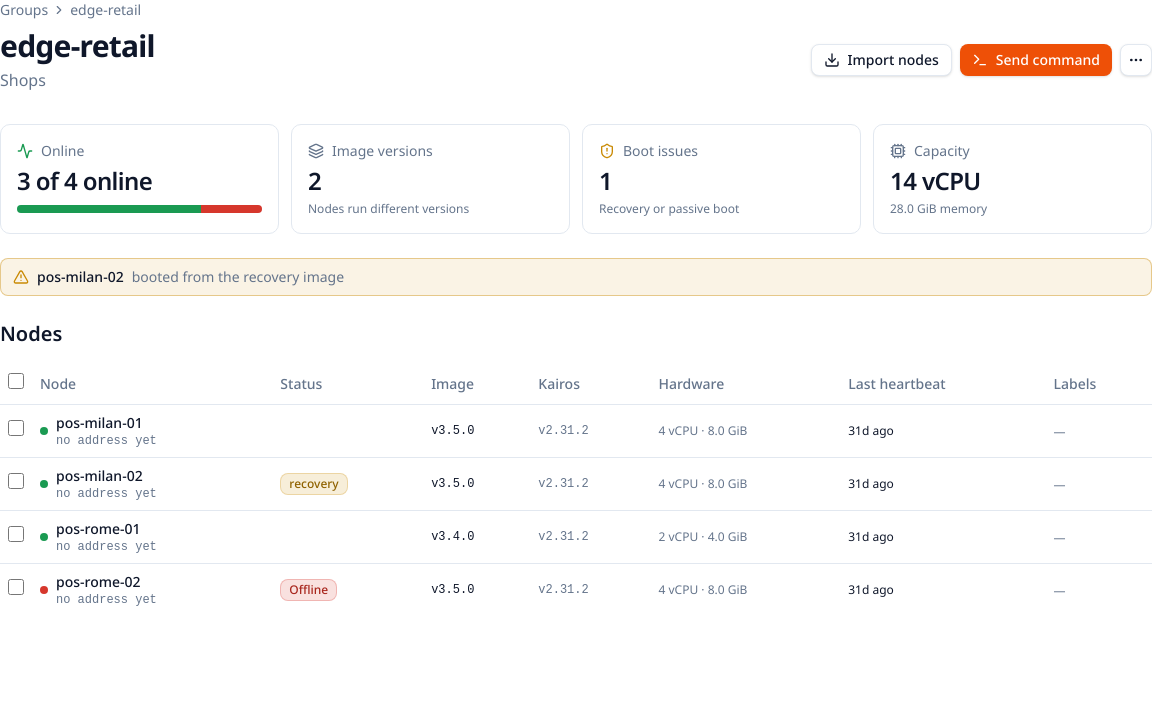
Test case: Group detail › saves name and description through the Edit dialog
The width and height of the screenshot is (1152, 720).
Expected: the heading "edge-retail" is shown, x1=0 y1=28 x2=155 y2=64
Press Enter in the button named "More actions", box x1=1120 y1=44 x2=1151 y2=76
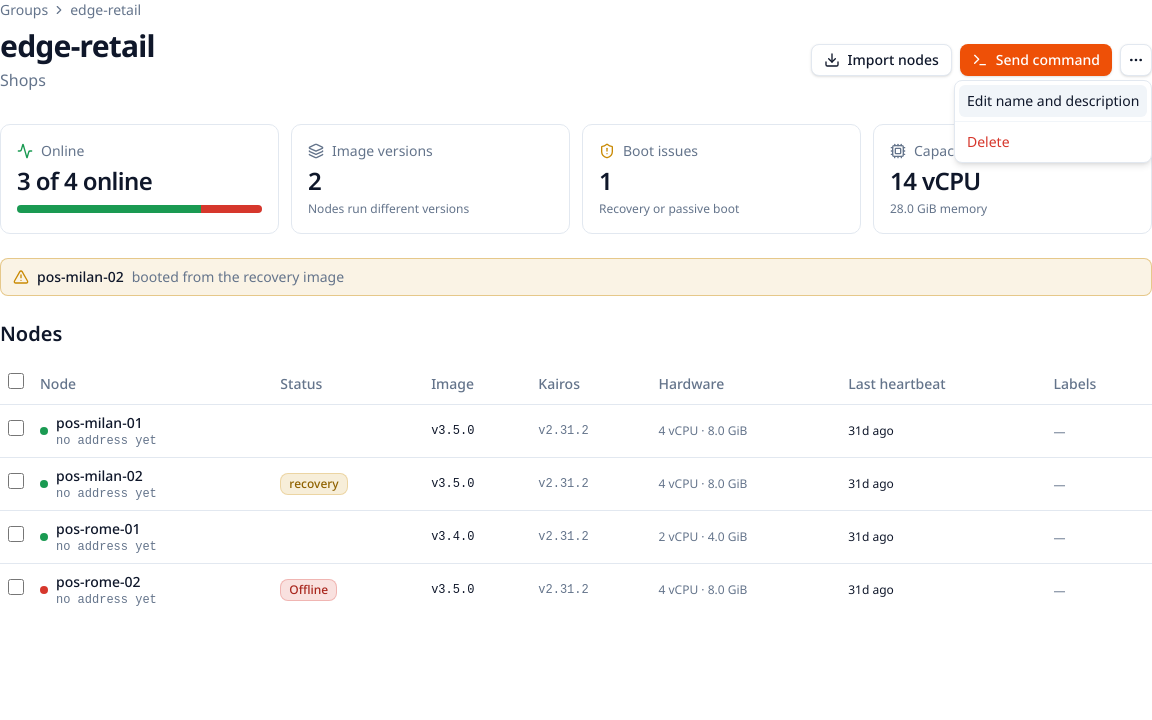
Click the menu item "Edit name and description": (1053, 101) x1=959 y1=85 x2=1147 y2=117
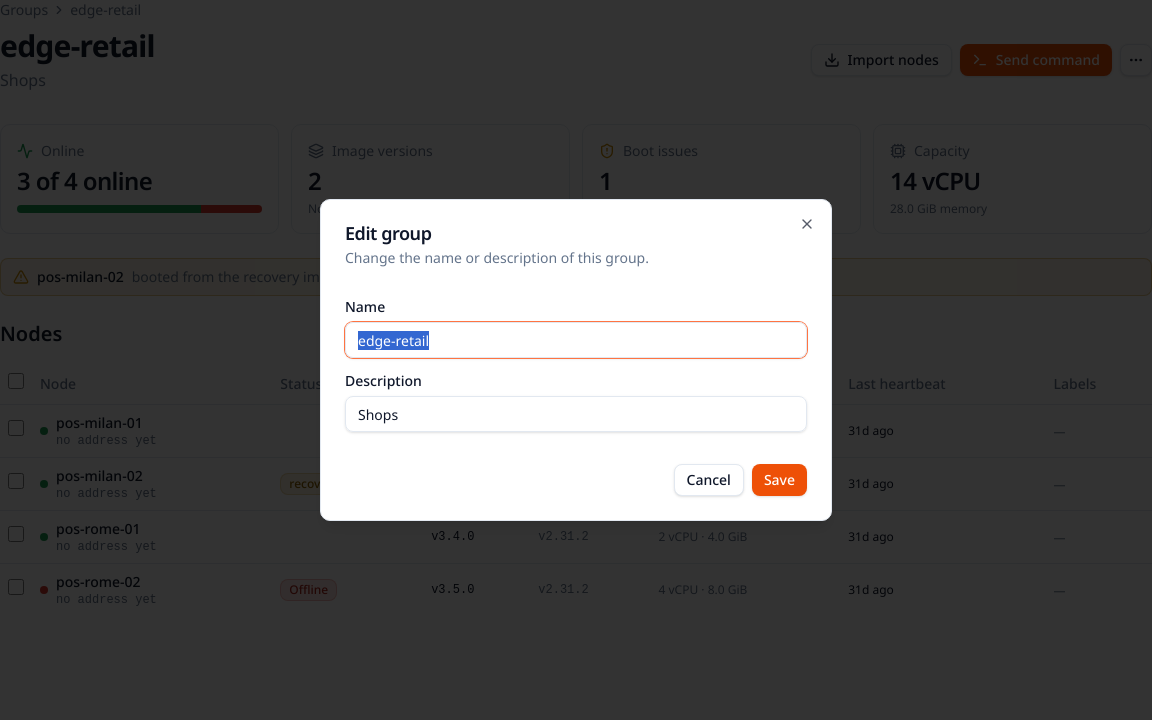
Replace the text in the field labelled "Name" with "edge-shops": (576, 340) x1=345 y1=322 x2=807 y2=358
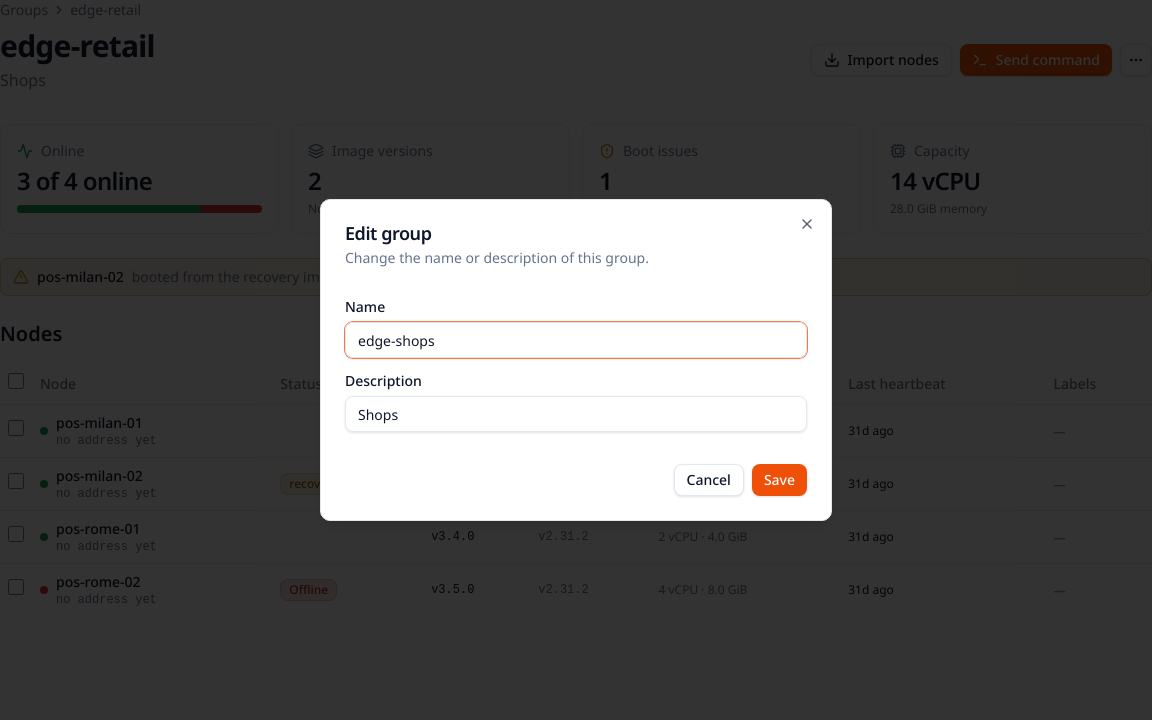
Replace the text in the field labelled "Description" with "All shops": (576, 414) x1=345 y1=396 x2=807 y2=432
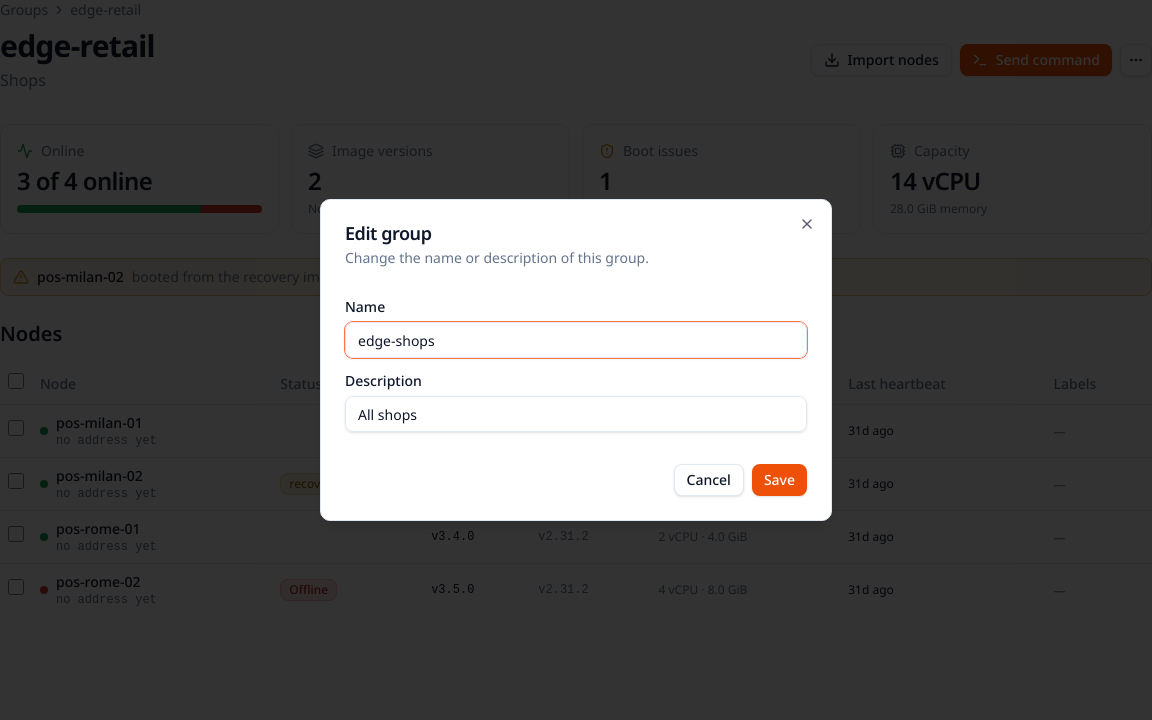
Click the button "Save": (779, 480) x1=752 y1=464 x2=807 y2=496
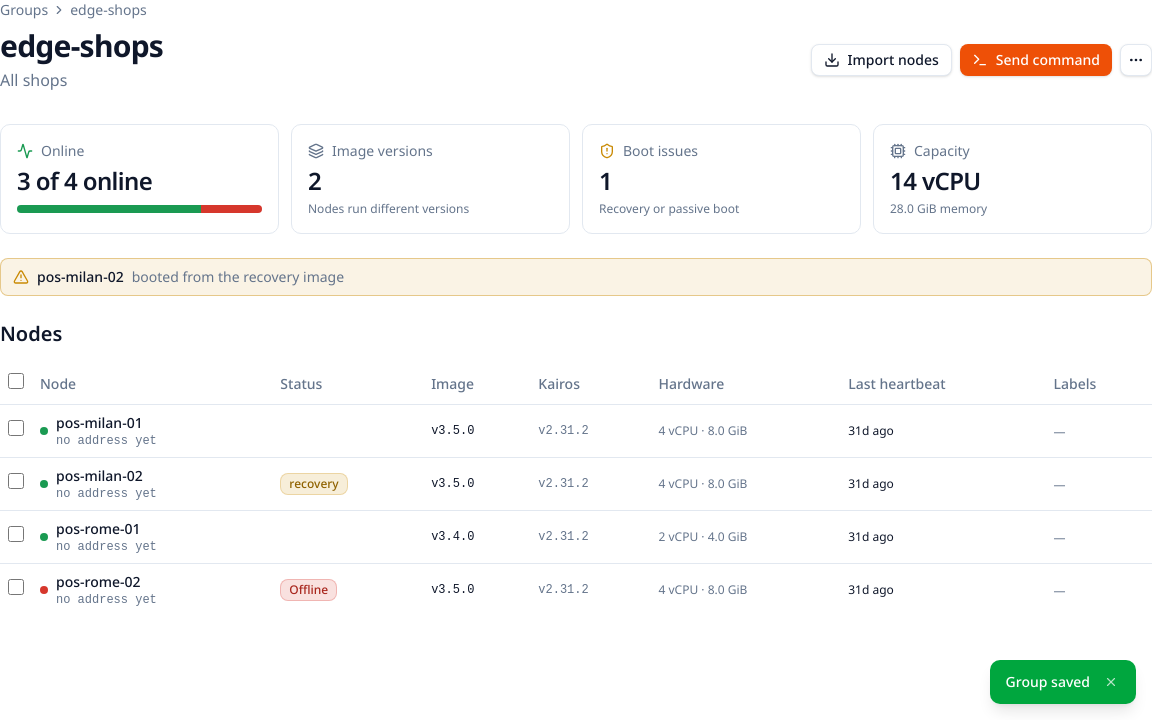
Expected: the heading "edge-shops" is shown, x1=0 y1=28 x2=163 y2=64
